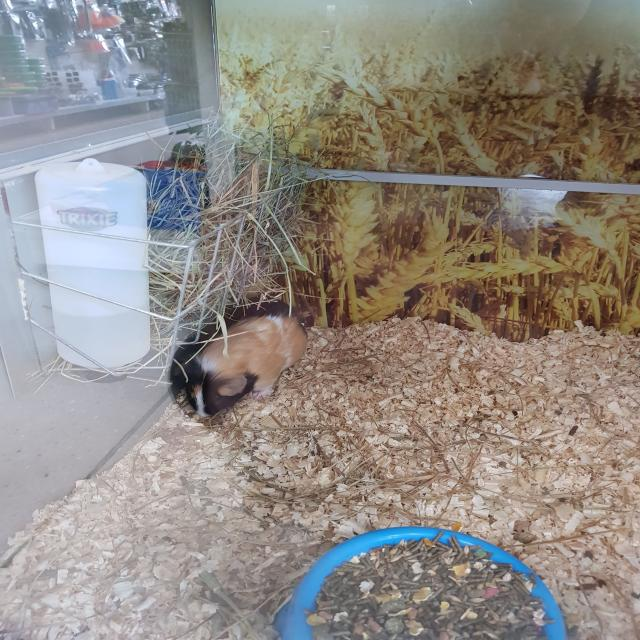guinea pig: (168, 297, 310, 429)
